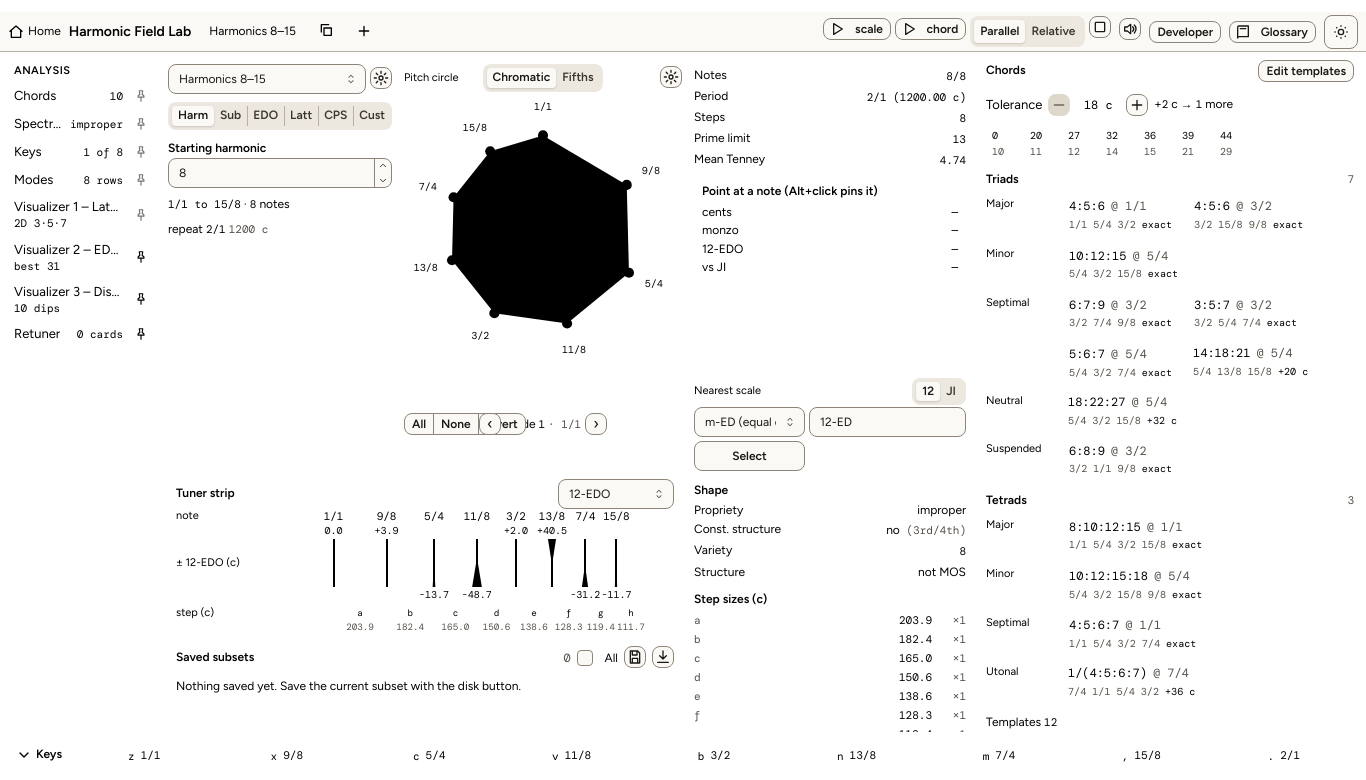
Scenario: CPS chord list › lists four otonal and four utonal chips named by their factors
Select "Hexany (1 3 5 7, choose 2)" in the dropdown named "Preset" at point(267, 79), box [168,64,366,94]
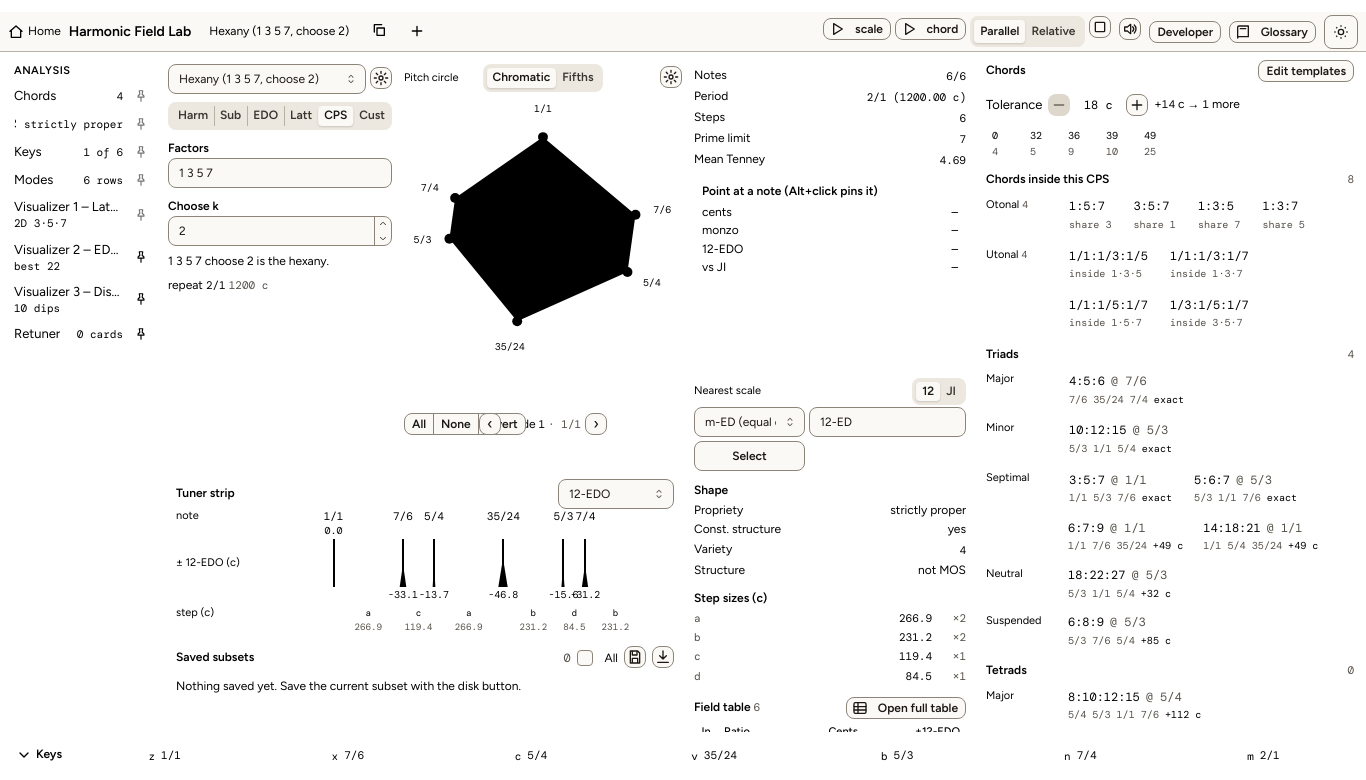
Now the number of buttons named "chord " is 4, box [1060,192,1120,238]; [1124,192,1185,238]; [1189,192,1249,238]; [1253,192,1314,238]
Now the button with aria-label "chord 3:5:7:" is shown, box [1124,192,1185,238]
Now the button with aria-label "chord 1/1:1/3:1/5:" is shown, box [1060,242,1157,287]
